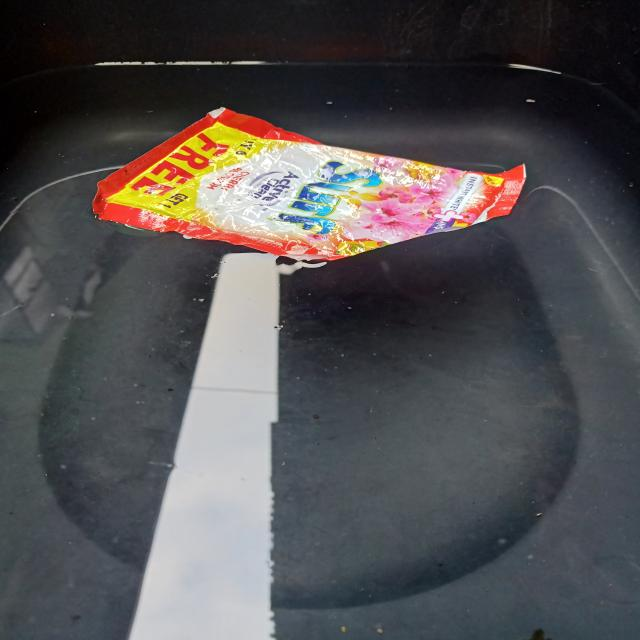Plastic Wrapper: (77, 101, 529, 265)
